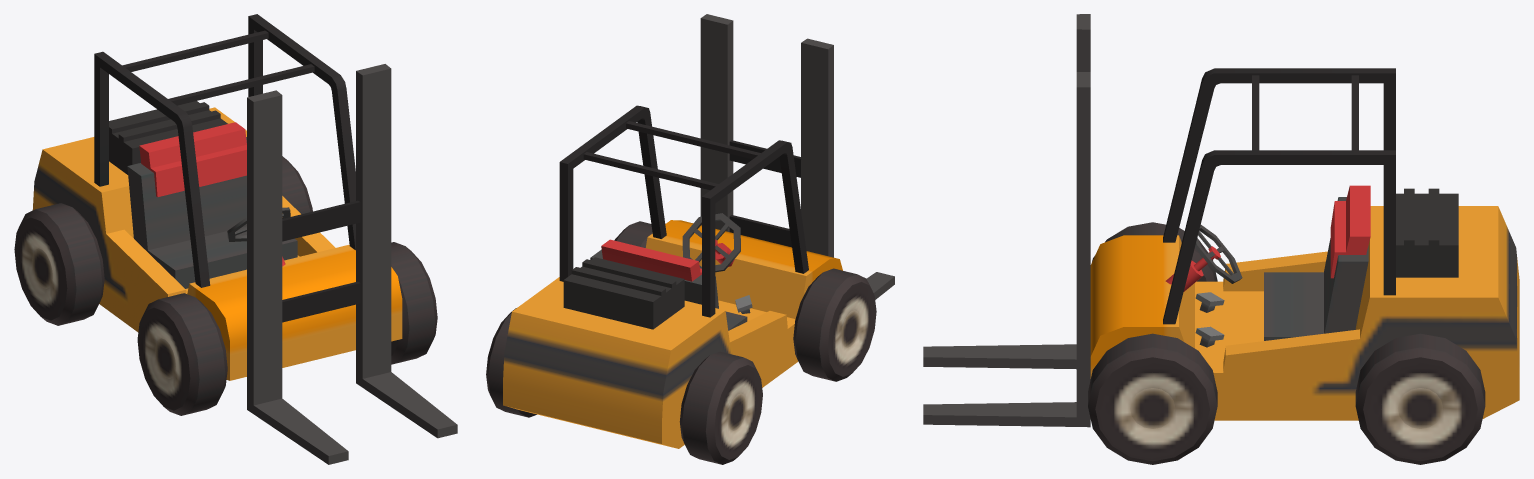
File: forklift.fbx
3 renders of one model, left to right at view 1: azimuth 30°, elevation 25°; view 2: azimuth 150°, elevation 25°; view 3: azimuth 270°, elevation 25°, orthographic. The views are drawn at different scales.
Visible parts, largest first — view 1: forklift_, forklift, forklift.001, forklift.003, forklift_wheel.002, forklift_wheel.001, forklift_wheel.000, forklift_wheel.003; view 2: forklift, forklift_, forklift.003, forklift.001, forklift_wheel.002, forklift_wheel.001, forklift_wheel.003, forklift.002, forklift_wheel.000, forklift.004; view 3: forklift, forklift.001, forklift.003, forklift_wheel.003, forklift_wheel.000, forklift_, forklift.004, forklift.002, forklift_wheel.001.
Boxes of the visible parts, <box> form: forklift_: <box>247,64,457,464</box>; forklift: <box>32,107,402,380</box>; forklift.001: <box>109,101,297,288</box>; forklift.003: <box>94,14,355,287</box>; forklift_wheel.002: <box>14,203,104,325</box>; forklift_wheel.001: <box>137,293,227,415</box>; forklift_wheel.000: <box>391,242,437,364</box>; forklift_wheel.003: <box>282,156,312,214</box>; forklift: <box>503,220,842,448</box>; forklift_: <box>700,14,894,299</box>; forklift.003: <box>559,105,808,317</box>; forklift.001: <box>563,239,747,330</box>; forklift_wheel.002: <box>679,351,762,464</box>; forklift_wheel.001: <box>793,268,876,381</box>; forklift_wheel.003: <box>486,308,536,417</box>; forklift.002: <box>682,213,740,272</box>; forklift_wheel.000: <box>614,221,652,247</box>; forklift.004: <box>715,243,752,313</box>; forklift: <box>1090,206,1519,420</box>; forklift.001: <box>1264,185,1458,340</box>; forklift.003: <box>1163,68,1395,324</box>; forklift_wheel.003: <box>1355,333,1485,464</box>; forklift_wheel.000: <box>1088,333,1217,464</box>; forklift_: <box>923,14,1090,427</box>; forklift.004: <box>1165,252,1224,347</box>; forklift.002: <box>1195,224,1242,283</box>; forklift_wheel.001: <box>1092,222,1217,281</box>.
Bounding box in the file's own units: 399 × 499 × 767.
